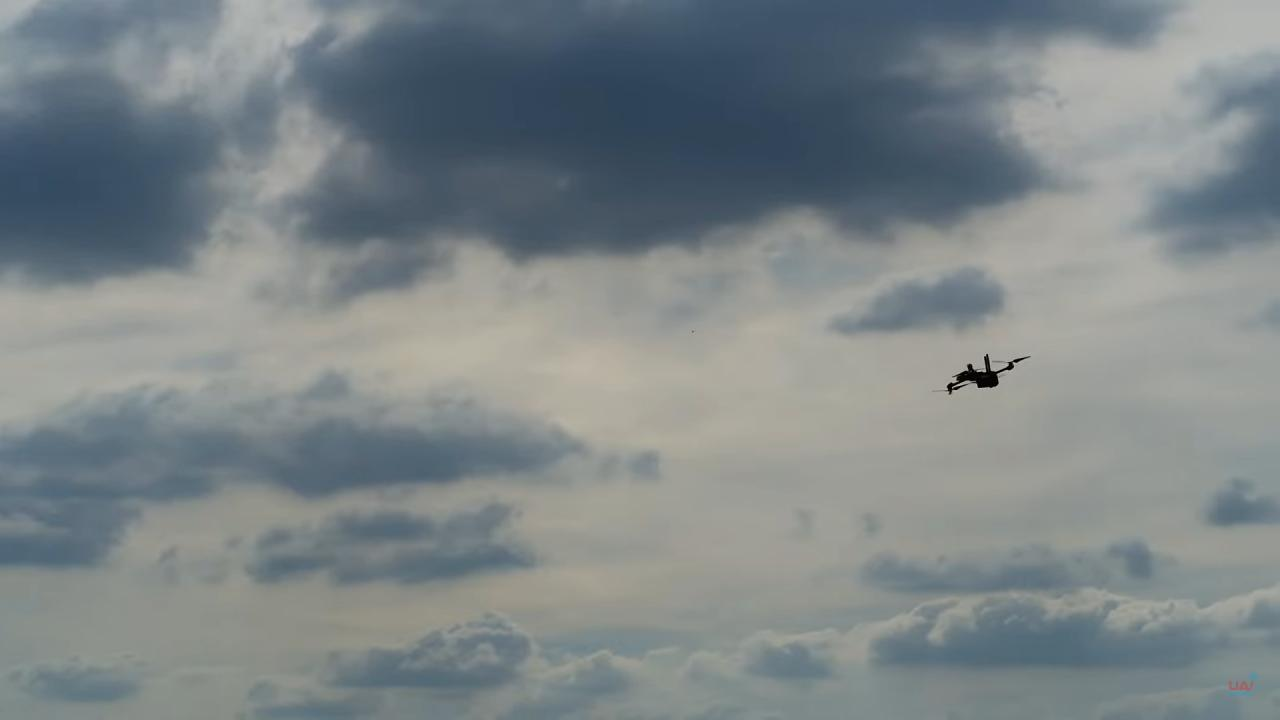Drone: (934, 344, 1040, 407)
